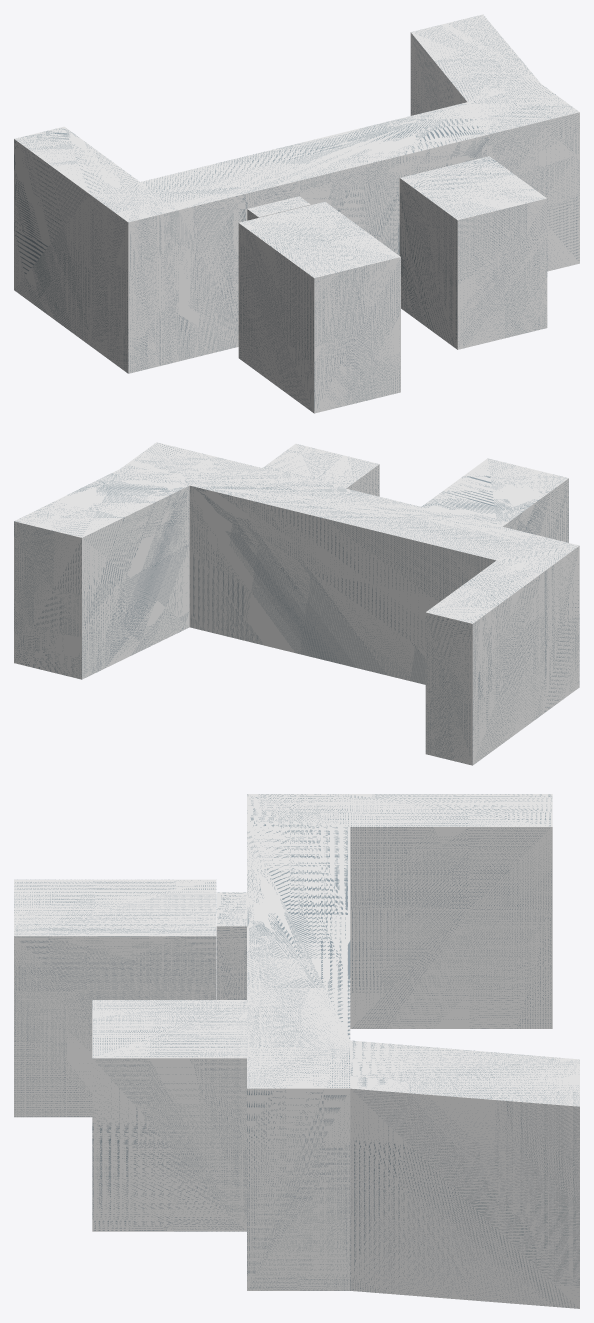
File: Humms.dae
3 views of the same model, one above another, from view 1: azimuth 30°, elevation 25°; view 2: azimuth 150°, elevation 25°; view 3: azimuth 270°, elevation 25° (orthographic). The views are drawn at different scales.
Visible parts, largest first — view 1: SketchUp (×2); view 2: SketchUp (×2); view 3: SketchUp (×2).
Part boxes in pixels (x1=…): SketchUp (×2): x1=14, y1=14, x2=579, y2=413; SketchUp (×2): x1=14, y1=442, x2=579, y2=765; SketchUp (×2): x1=14, y1=794, x2=579, y2=1308.
Bounding box in the file's own units: 5.23e+09 × 4e+09 × 1.58e+09.
